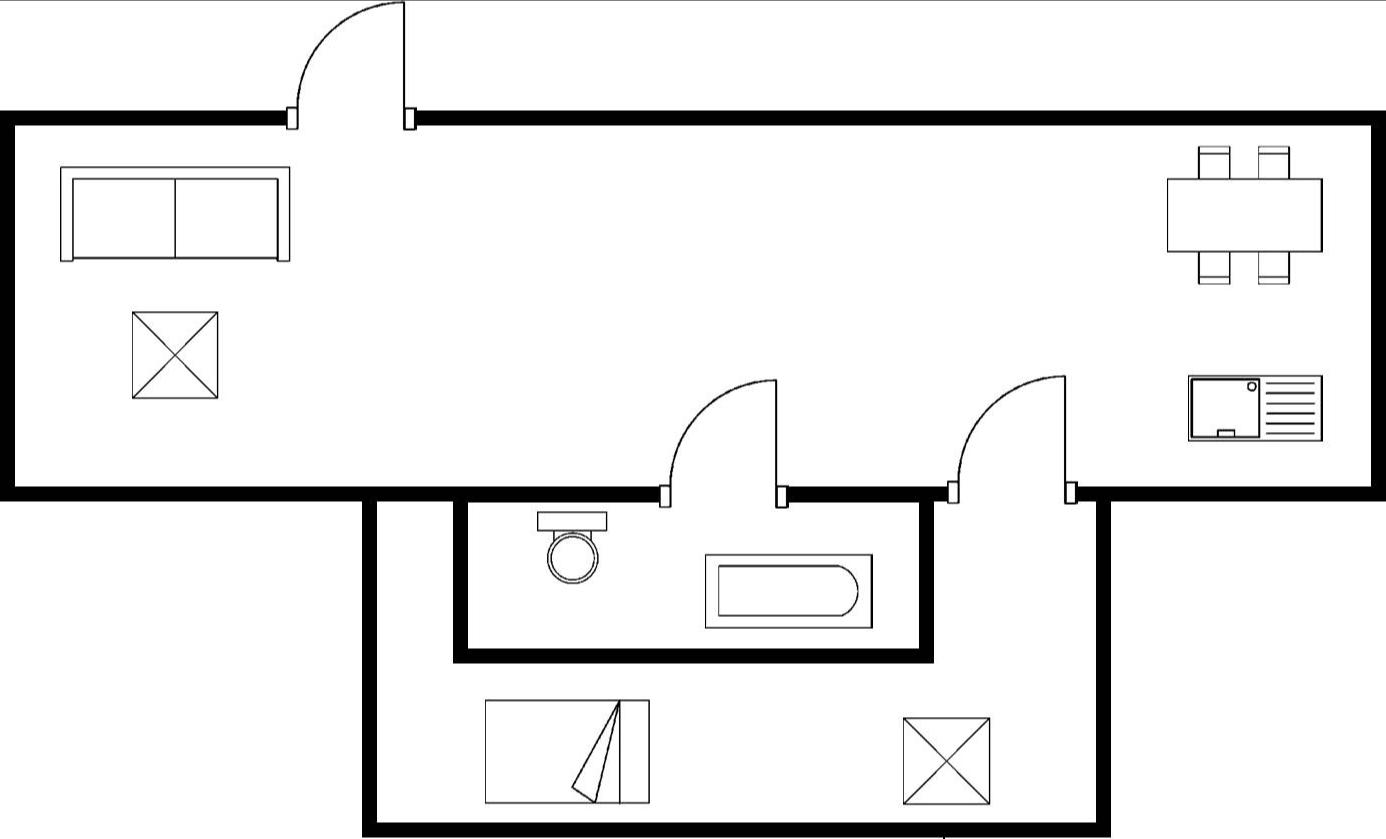bed: (480, 691, 659, 808)
dining_table: (1161, 139, 1328, 286)
sink: (1183, 366, 1330, 446)
sofa: (55, 159, 297, 268)
toilet: (531, 505, 613, 589)
tub: (698, 545, 880, 635)
